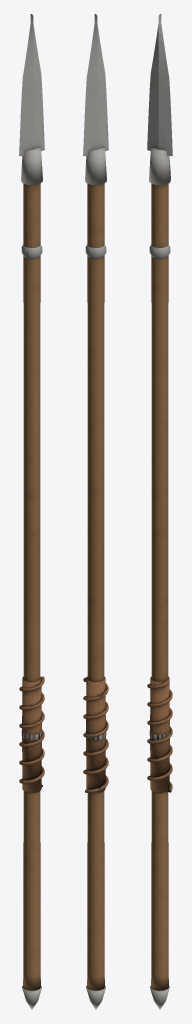
Rendered from arma_lanca_comum.glb.
3 views of the same model, side by side, from view 1: azimuth 30°, elevation 25°; view 2: azimuth 210°, elevation 25°; view 3: azimuth 330°, elevation 25° (orthographic).
Parts seen in each view (by area): view 1: arma_lanca_comum; view 2: arma_lanca_comum; view 3: arma_lanca_comum.
Boxes of the visible parts, x1,y1,x2,y2 form: arma_lanca_comum: [19, 14, 44, 1009]; arma_lanca_comum: [83, 14, 108, 1009]; arma_lanca_comum: [147, 14, 172, 1009].
Size of the model in its own units: 0.0585 by 2.16 by 0.0504.
Materials: 1 (1 with a texture image).
